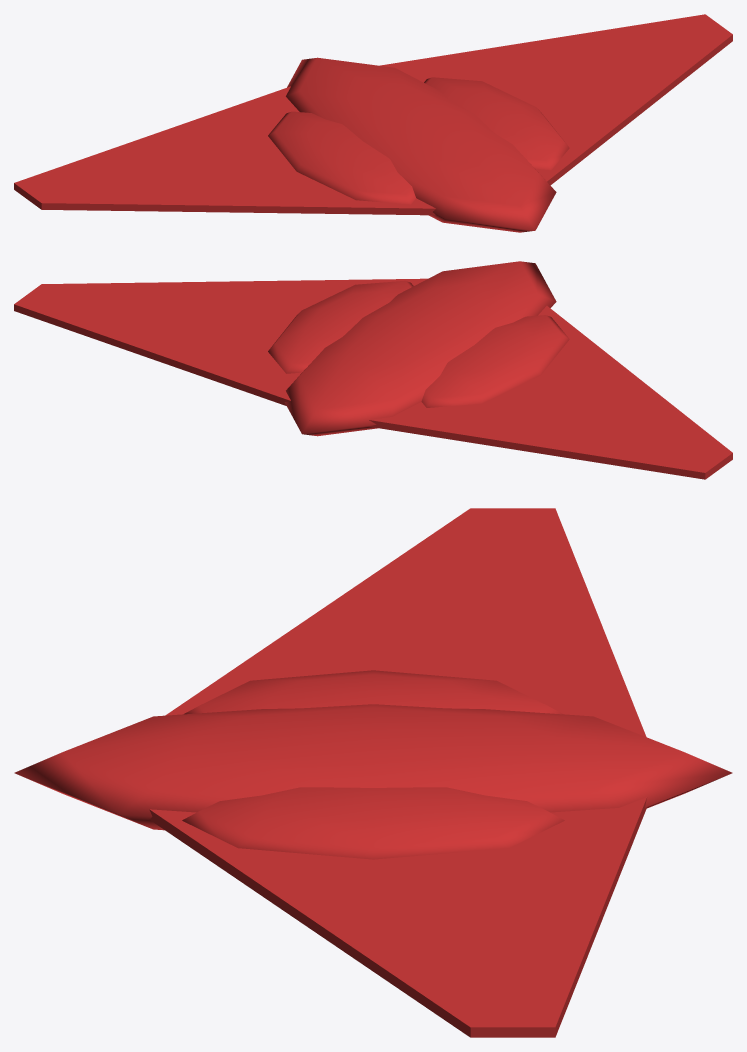
File: fighter-flying-wing-501.glb
The picture shows the model from 3 angles, top to bottom: view 1: azimuth 30°, elevation 25°; view 2: azimuth 150°, elevation 25°; view 3: azimuth 270°, elevation 25°; orthographic projection. The views are drawn at different scales.
Bounding box in the file's own units: 1.92 × 0.1424 × 1.12.
